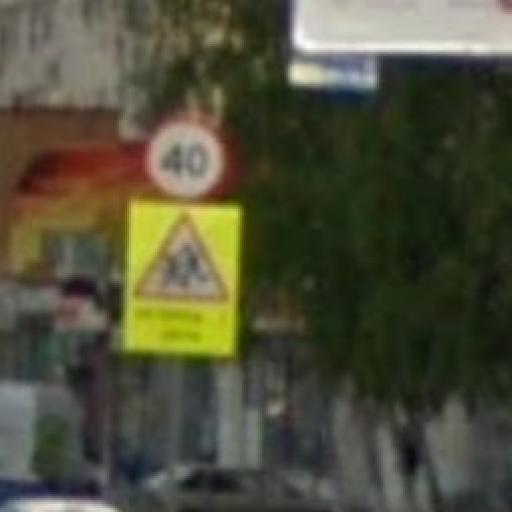traffic_sign: (132, 212, 235, 308), (144, 115, 231, 204)
